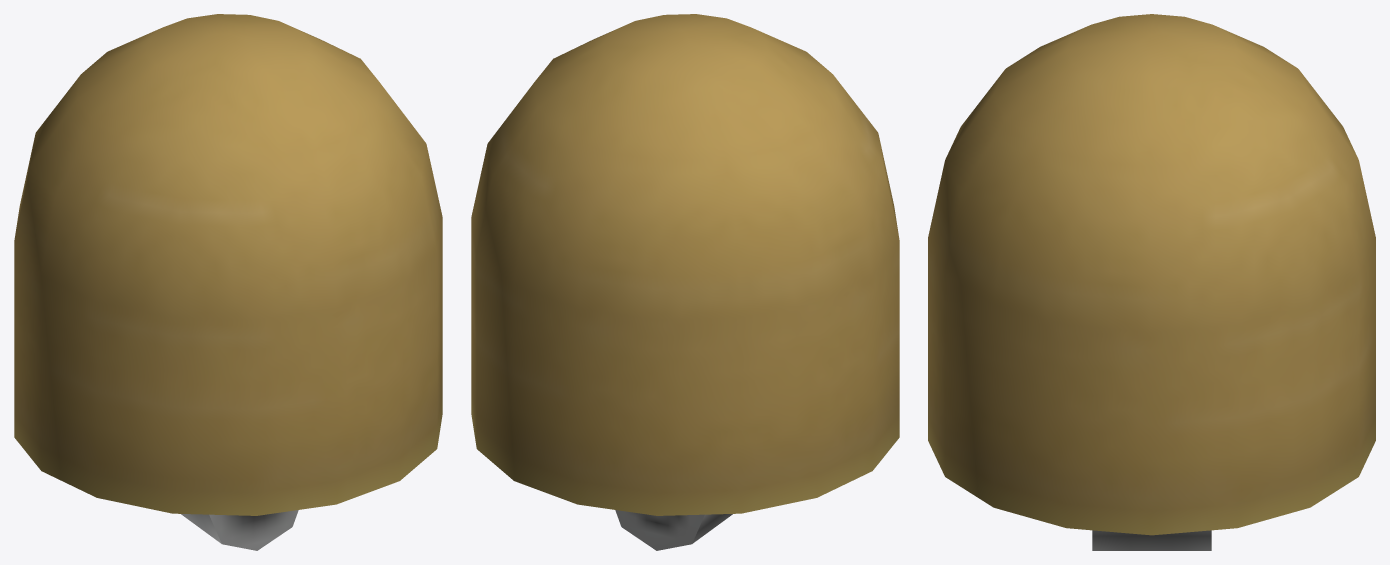
The model's file is atria_antenna_2_1.obj.
3 views of the same model, side by side, from view 1: azimuth 30°, elevation 25°; view 2: azimuth 150°, elevation 25°; view 3: azimuth 270°, elevation 25° (orthographic). The views are drawn at different scales.
Parts seen in each view (by area): view 1: atria_antenna_2_1; view 2: atria_antenna_2_1; view 3: atria_antenna_2_1.
Boxes of the visible parts, <box> form: atria_antenna_2_1: <box>14,14,442,550</box>; atria_antenna_2_1: <box>471,14,899,550</box>; atria_antenna_2_1: <box>928,14,1375,550</box>.
Size of the model in its own units: 0.1875 by 0.2375 by 0.1875.
Materials: 1 (1 with a texture image).
